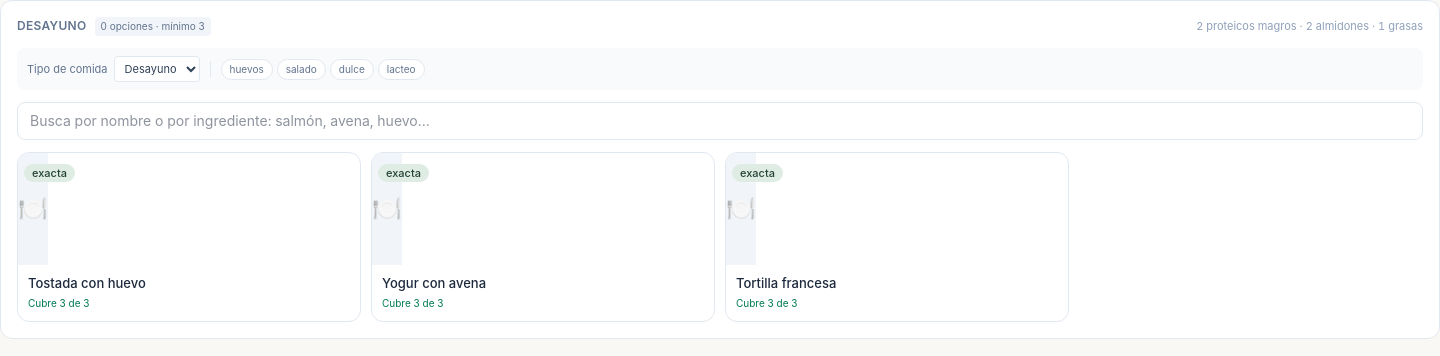
Filtrar las recetas al pautar › se puede mirar el banco de otro tipo de comida
Select "Cena" in the dropdown labelled "Tipo de comida" at [156, 69], box [114,56,200,82]
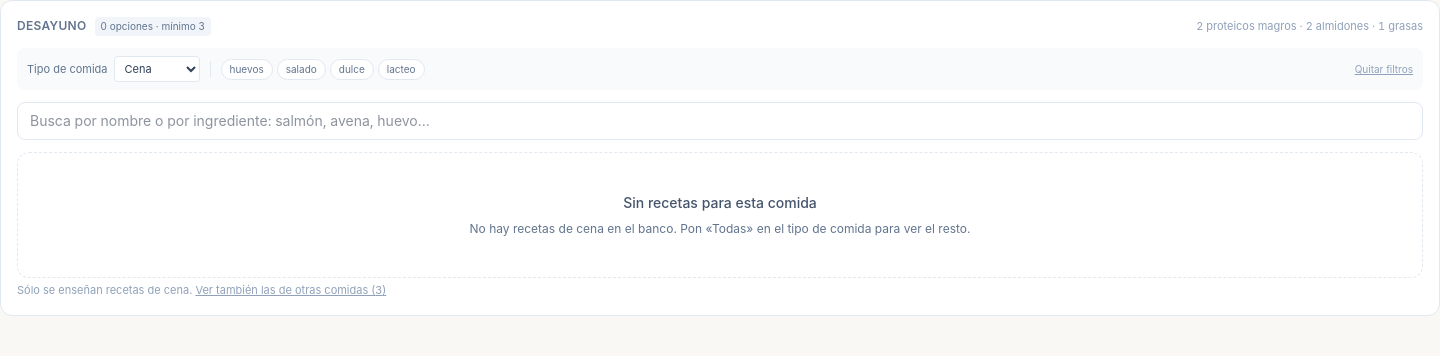
Now the text "No hay recetas de cena" is shown, box [470,221,970,236]
